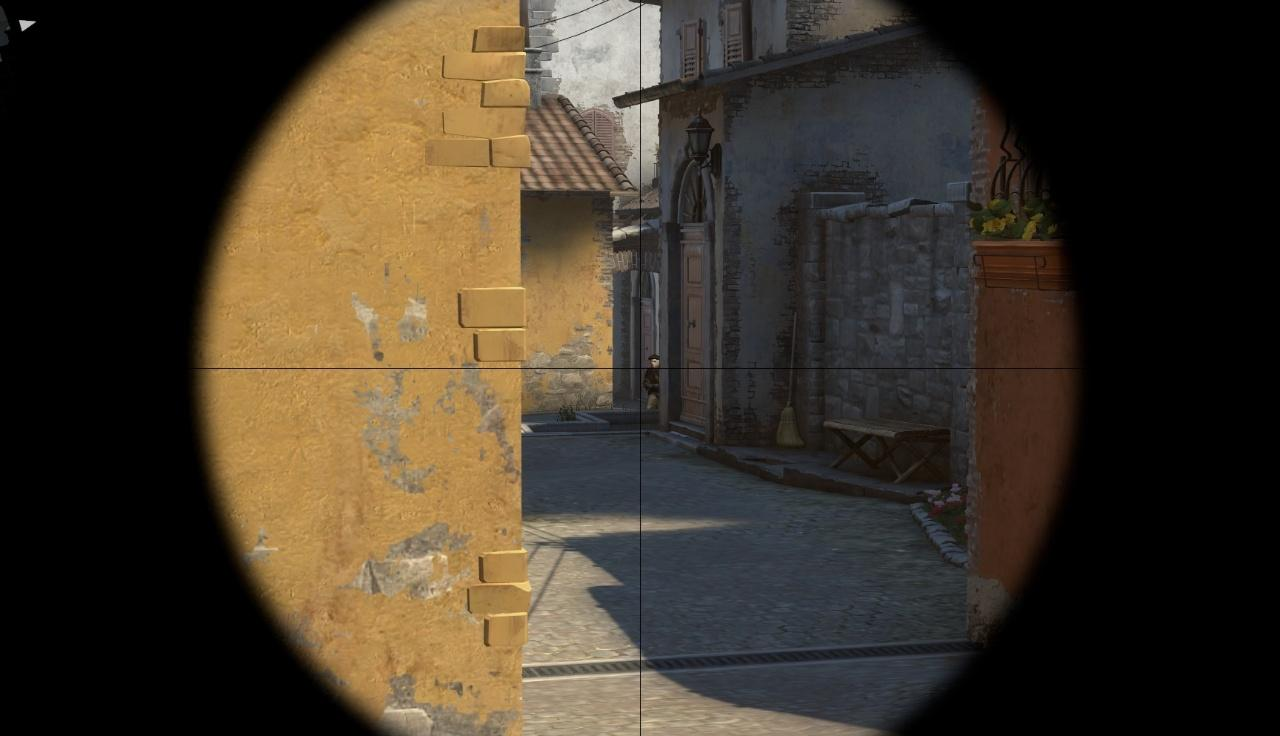tt: (644, 354, 661, 410)
tthead: (649, 355, 660, 369)
